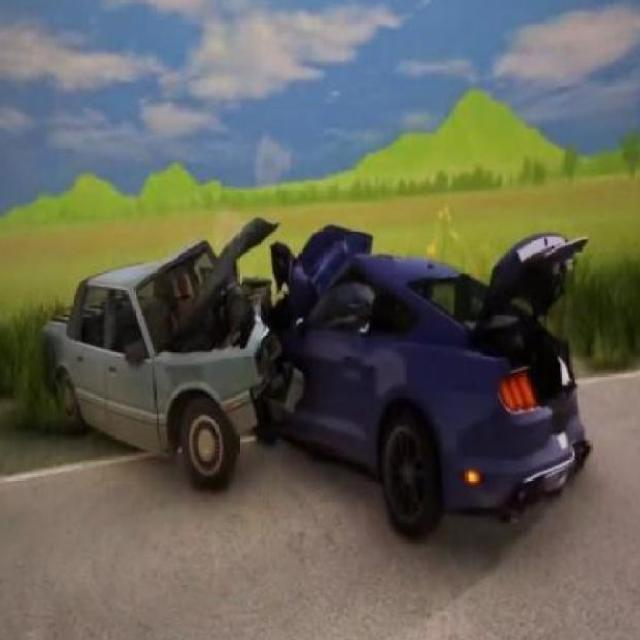accident: (56, 188, 588, 535)
